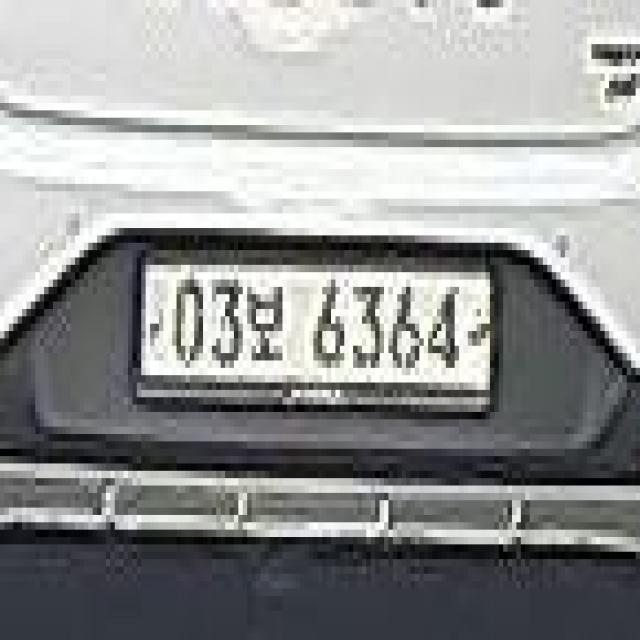illegal_plate: (133, 245, 504, 422)
